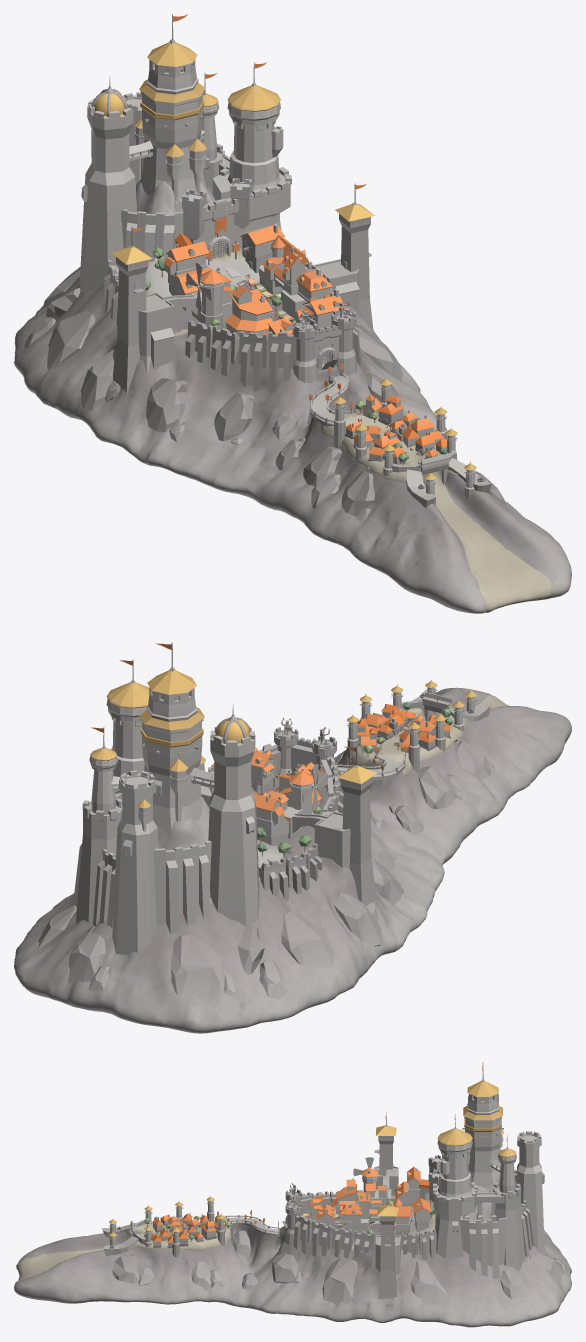
The model's file is base_ground.fbx.
3 renders of one model, top to bottom at view 1: azimuth 30°, elevation 25°; view 2: azimuth 150°, elevation 25°; view 3: azimuth 270°, elevation 25°, orthographic. The views are drawn at different scales.
Parts seen in each view (by area): view 1: base_ground, Cube.048, Cube.054, Cube.163, base_ground.002, Circle, Cube.061, Cube.040, Cylinder.002, Cube.062, Cube.066, Cube.045 (+22 smaller); view 2: base_ground, Cube.054, Cube.048, Cube.067, Cube.163, Cube.063, Cube.070, Circle, rock.023, rock.025, Cube.043, base_ground.001 (+21 smaller); view 3: base_ground, Cube.048, Cube.063, Cube.067, Circle, Cube.065, Cube.062, Cube.040, rock.015, Cube.163, rock.017, base_ground.002 (+26 smaller).
Boxes of the visible parts, left/top/right/bottom form: base_ground: left=14, top=180, right=571, bottom=613; Cube.048: left=134, top=14, right=206, bottom=204; Cube.054: left=79, top=76, right=137, bottom=293; Cube.163: left=112, top=226, right=174, bottom=395; base_ground.002: left=427, top=473, right=553, bottom=612; Circle: left=227, top=62, right=283, bottom=190; Cube.061: left=176, top=178, right=251, bottom=260; Cube.040: left=312, top=183, right=374, bottom=330; Cylinder.002: left=292, top=301, right=357, bottom=383; Cube.062: left=212, top=165, right=291, bottom=234; Cube.066: left=120, top=209, right=183, bottom=262; Cube.045: left=281, top=249, right=332, bottom=322; base_ground: left=14, top=687, right=571, bottom=1033; Cube.054: left=208, top=704, right=259, bottom=926; Cube.048: left=139, top=642, right=205, bottom=832; Cube.067: left=112, top=770, right=158, bottom=954; Cube.163: left=314, top=746, right=376, bottom=905; Cube.063: left=75, top=727, right=122, bottom=922; Cube.070: left=153, top=840, right=211, bottom=934; Circle: left=106, top=659, right=149, bottom=776; rock.023: left=170, top=934, right=221, bottom=1003; rock.025: left=281, top=911, right=333, bottom=968; Cube.043: left=267, top=764, right=327, bottom=838; base_ground.001: left=346, top=708, right=467, bottom=775; base_ground: left=14, top=1172, right=571, bottom=1327; Cube.048: left=462, top=1062, right=503, bottom=1187; Cube.063: left=493, top=1135, right=525, bottom=1270; Cube.067: left=516, top=1131, right=544, bottom=1252; Circle: left=437, top=1113, right=472, bottom=1197; Cube.065: left=460, top=1217, right=506, bottom=1278; Cube.062: left=433, top=1182, right=477, bottom=1258; Cube.040: left=371, top=1193, right=400, bottom=1299; rock.015: left=322, top=1257, right=358, bottom=1304; Cube.163: left=374, top=1112, right=398, bottom=1195; rock.017: left=410, top=1260, right=447, bottom=1304; base_ground.002: left=15, top=1248, right=103, bottom=1282.
Bounding box in the file's own units: 2500 × 2663 × 6024.
